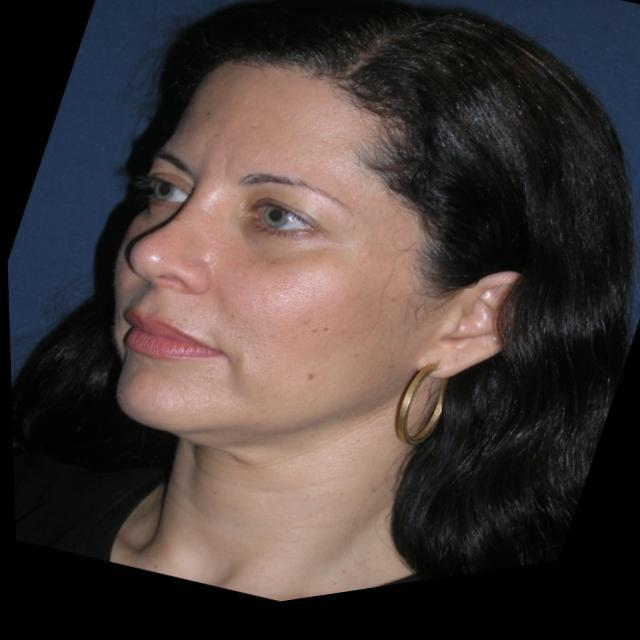Nonhelmet: (61, 0, 596, 516)
